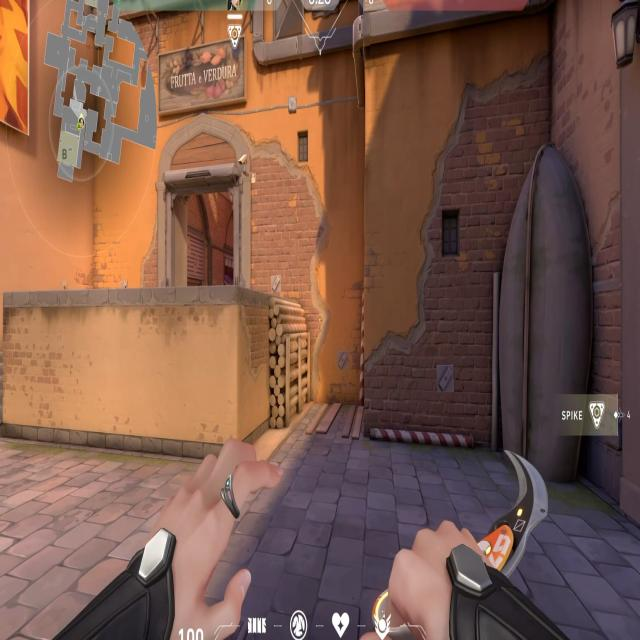B_Cubby: (232, 284, 306, 450)
